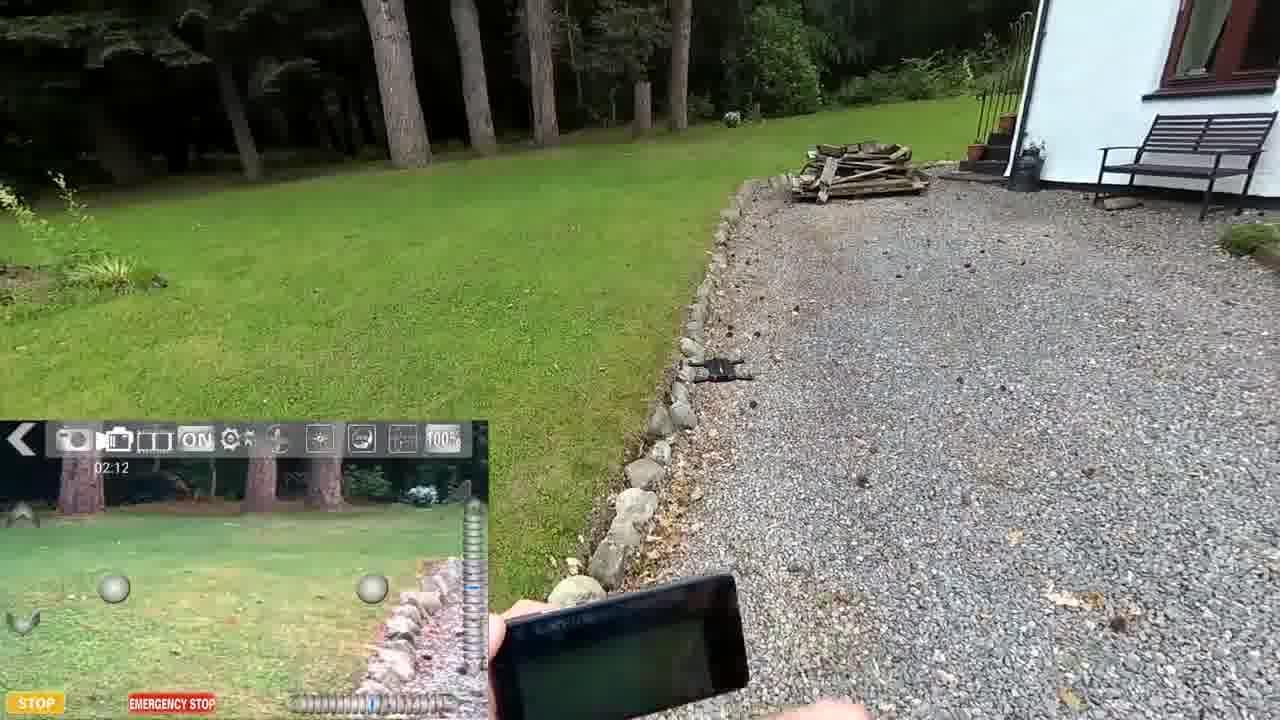Drone: (683, 349, 759, 390)
